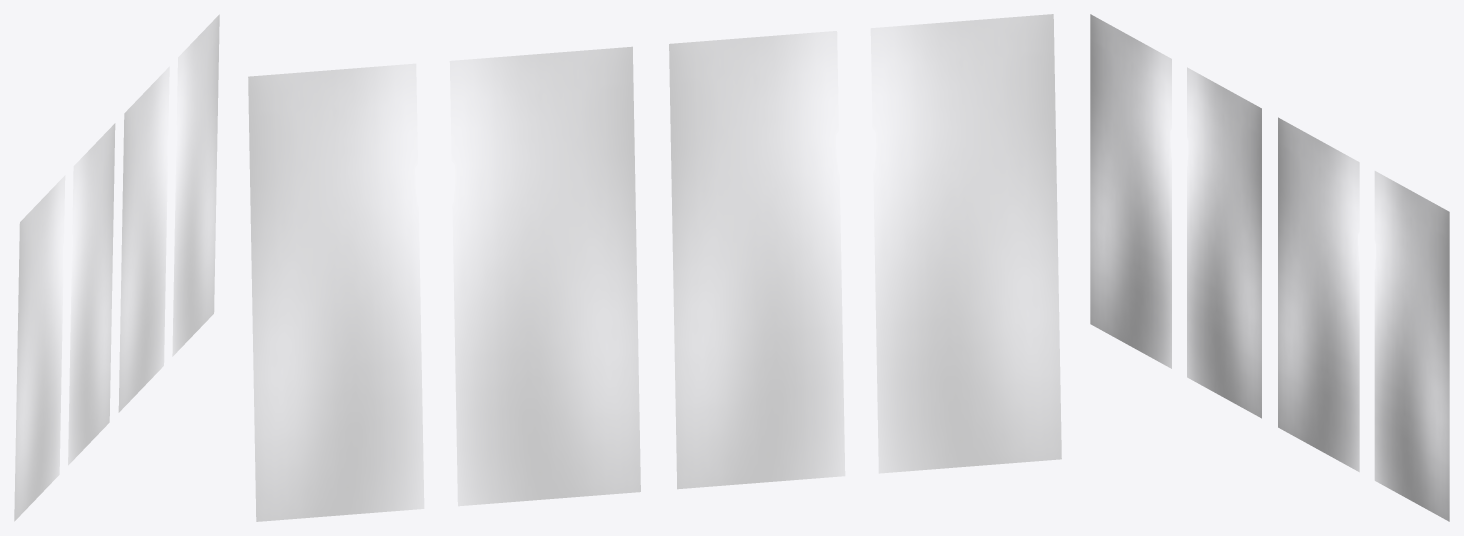
File: fridge1.001_fridgeglass_0.002_lev2.glb
The picture shows the model from 3 angles, left to right: view 1: azimuth 30°, elevation 25°; view 2: azimuth 150°, elevation 25°; view 3: azimuth 270°, elevation 25°; orthographic projection. The views are drawn at different scales.
Parts seen in each view (by area): view 1: fridge1.001_fridgeglass_0.002_lev2; view 2: fridge1.001_fridgeglass_0.002_lev2; view 3: fridge1.001_fridgeglass_0.002_lev2.
Boxes of the visible parts, x1,y1,x2,y2 form: fridge1.001_fridgeglass_0.002_lev2: (14,14,219,521); fridge1.001_fridgeglass_0.002_lev2: (248,14,1061,521); fridge1.001_fridgeglass_0.002_lev2: (1090,14,1449,521).
Bounding box in the file's own units: 8.58 × 6.66 × 6.76.
Materials: 1 (1 with a texture image).
